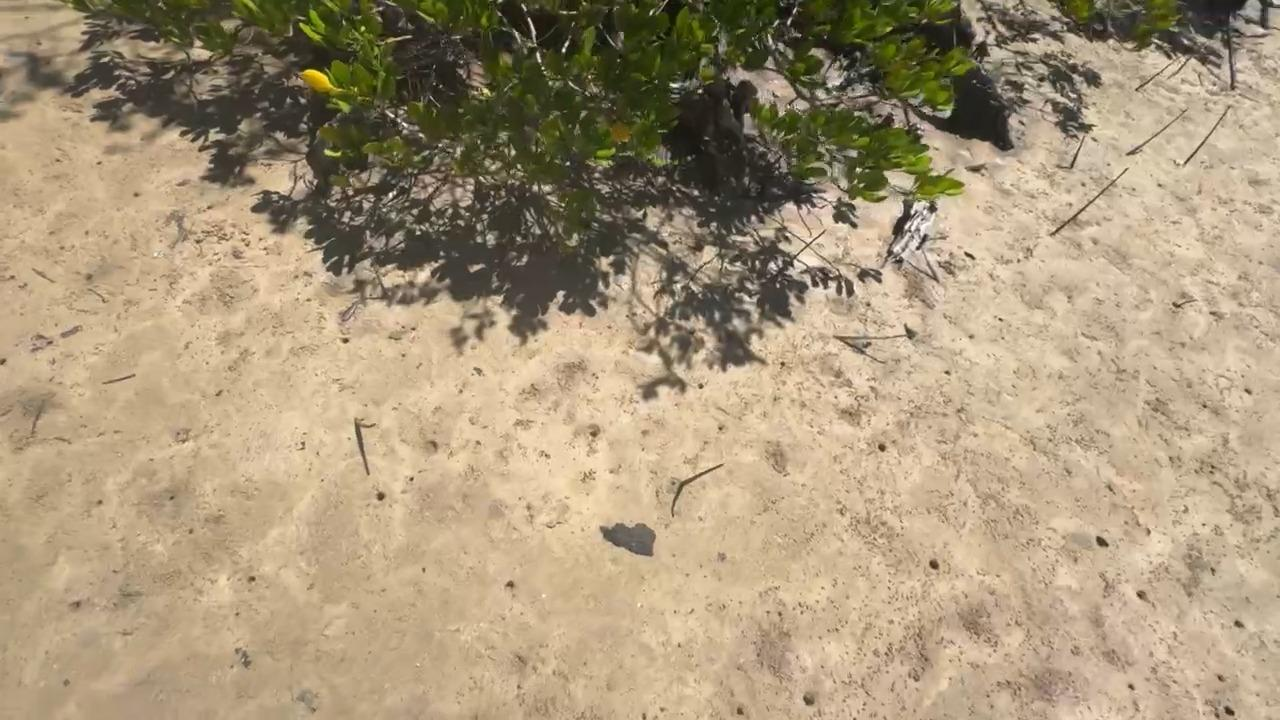Tree: (1052, 168, 1129, 234), (1127, 111, 1189, 157), (1183, 109, 1229, 163), (1134, 57, 1178, 92), (680, 463, 723, 488), (1070, 133, 1087, 168), (836, 332, 910, 340), (355, 419, 376, 429)
